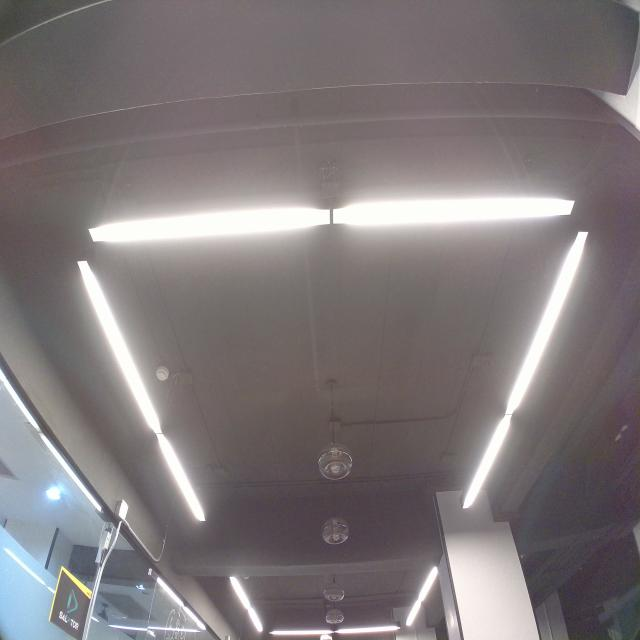lamp2_on: (454, 230, 599, 518), (71, 255, 213, 530), (85, 189, 585, 252)
